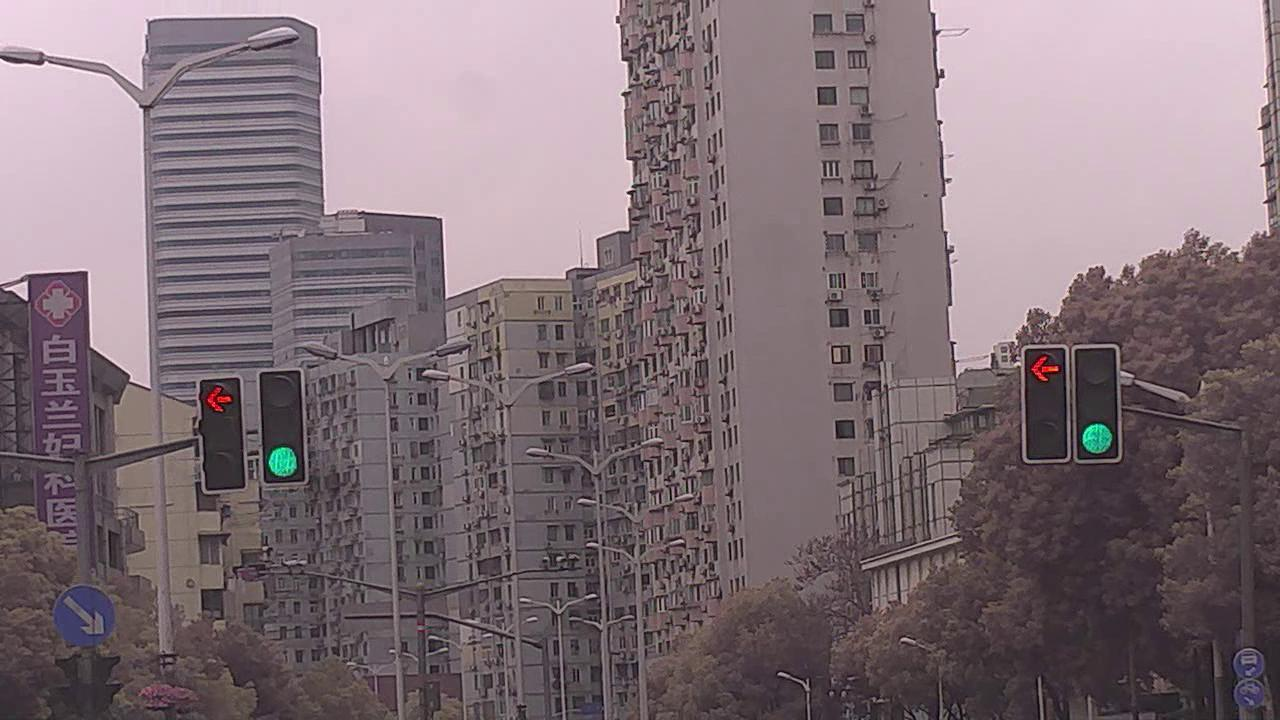traffic_light: (1072, 344, 1123, 464), (196, 381, 249, 492), (261, 370, 309, 485), (1024, 346, 1070, 463)
